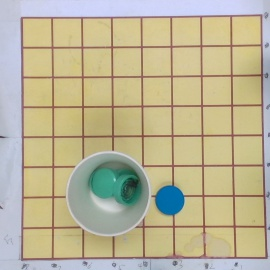blue: (156, 185, 185, 215)
cup_green: (66, 149, 154, 237)
